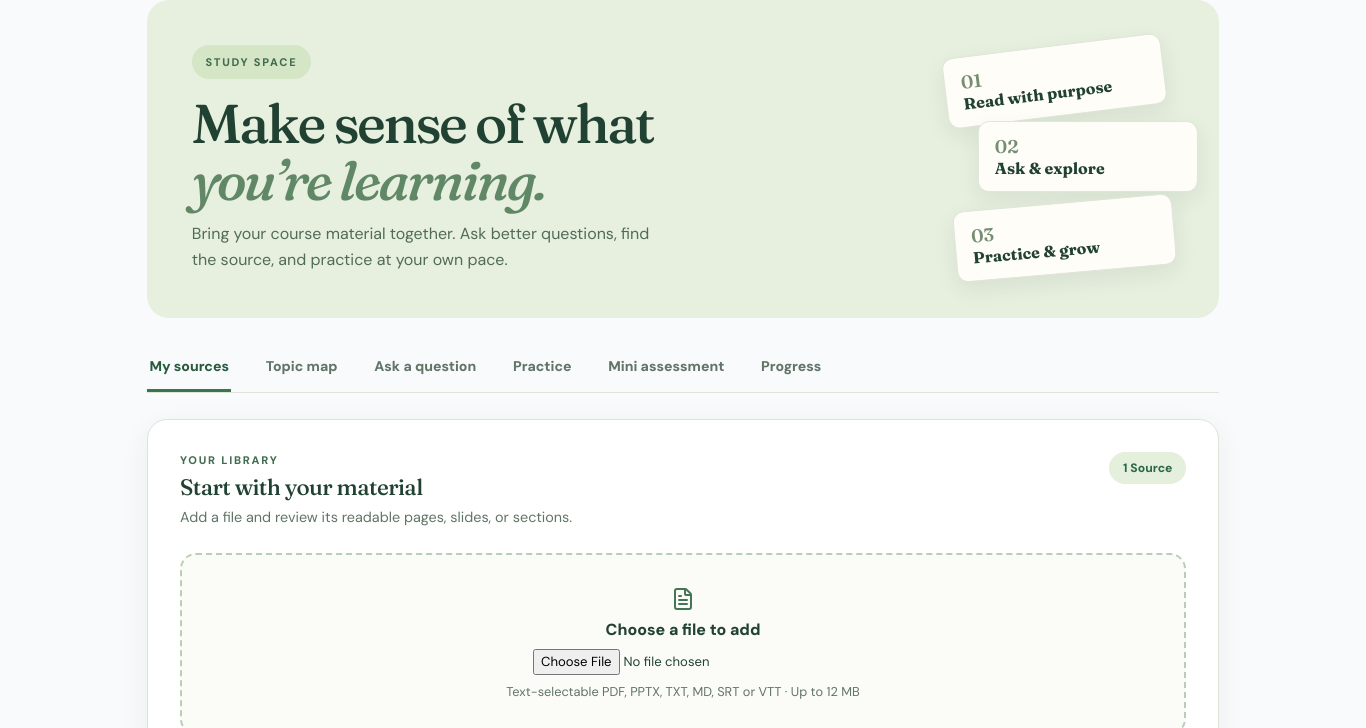
Test case: Study Lab restores an answer and question and keeps them when a new request reaches daily quota
Click the button "Ask a question": {"x": 425, "y": 368} [372,344,479,392]
(page scrolled)
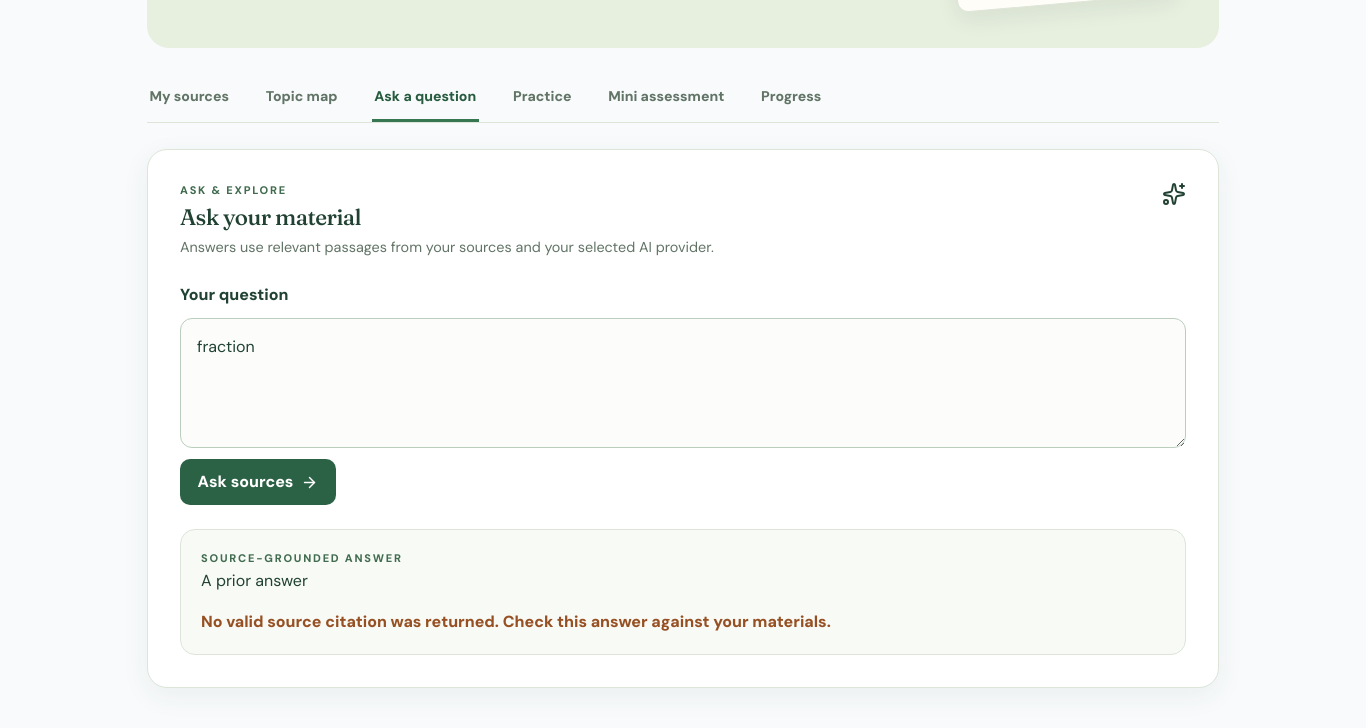
Expected: the text "A prior answer" is shown, [201,570,308,591]
Click the button "Ask sources": {"x": 258, "y": 482} [180,459,336,505]
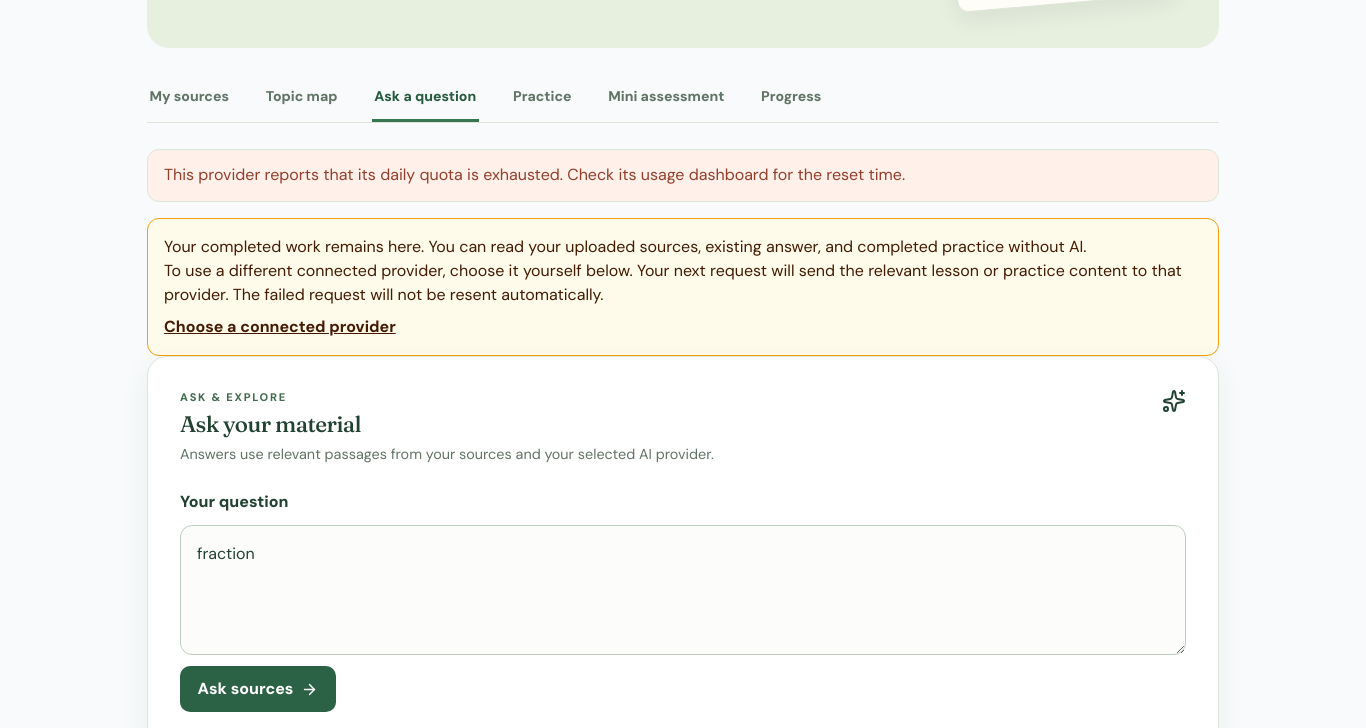
Expected: the 1st message shows "daily quota", [164,164,905,185]
Click the button "Practice": {"x": 542, "y": 98} [511,74,574,122]
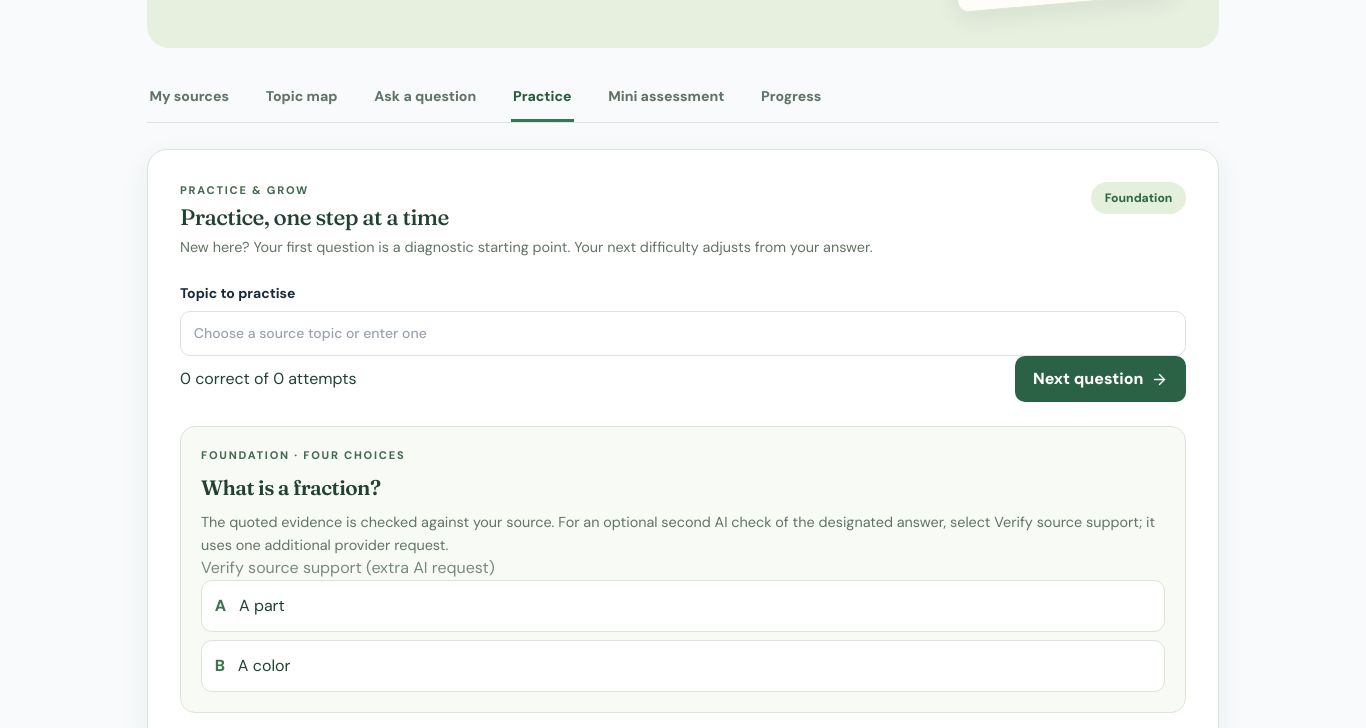
Expected: the heading "What is a fraction?" is shown, [201,475,380,500]
